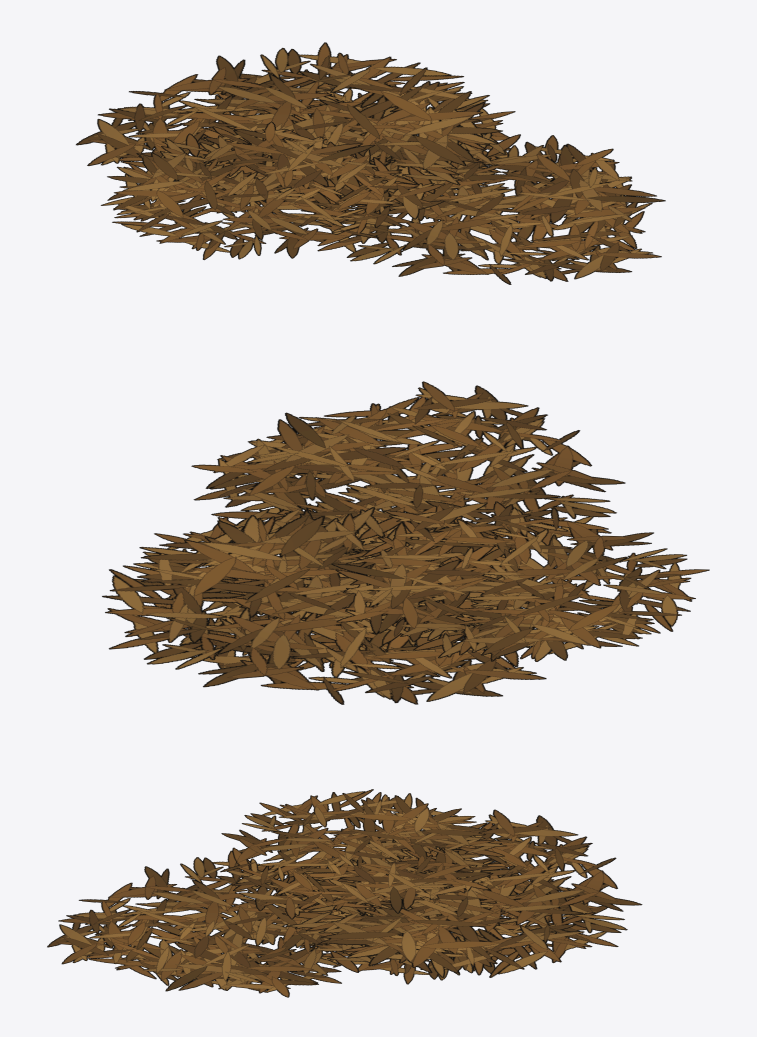
The model's file is prop_forest_litter_b.glb.
The picture shows the model from 3 angles, top to bottom: view 1: azimuth 30°, elevation 25°; view 2: azimuth 150°, elevation 25°; view 3: azimuth 270°, elevation 25°; orthographic projection. The views are drawn at different scales.
Visible parts, largest first — view 1: forest_litter_needle; view 2: forest_litter_needle; view 3: forest_litter_needle.
Boxes of the visible parts, <box> form: forest_litter_needle: <box>76,42,665,284</box>; forest_litter_needle: <box>102,381,709,704</box>; forest_litter_needle: <box>47,789,642,997</box>.
Bounding box in the file's own units: 2.47 × 0.024 × 2.95.
1 material, 1 textured.
